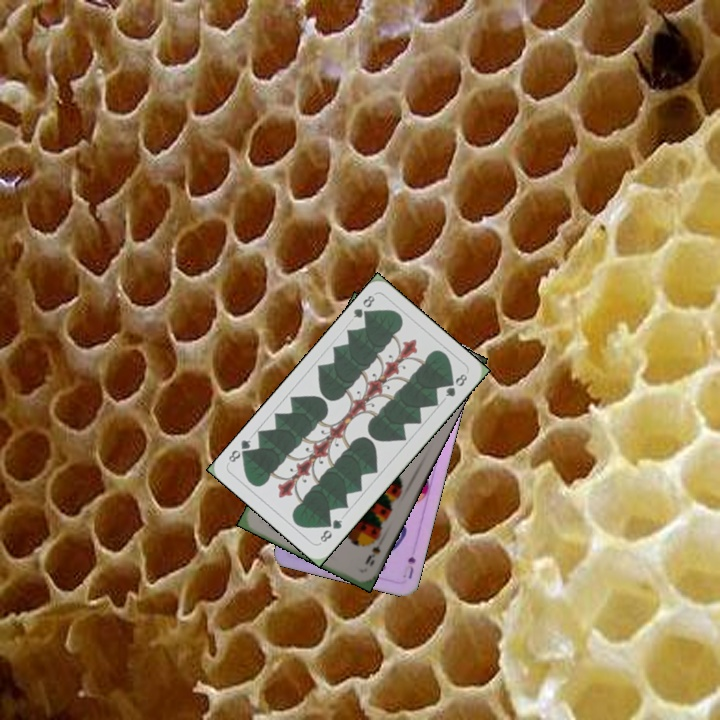G8: (315, 515, 345, 546), (349, 291, 377, 322)
S9: (361, 533, 383, 568)
SU: (403, 552, 418, 581)
